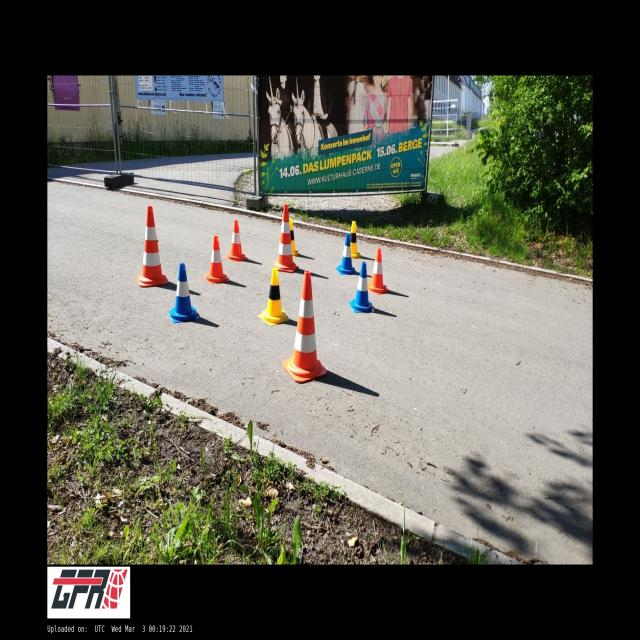blue_cone: (168, 263, 199, 324), (349, 262, 375, 313), (336, 233, 358, 275)
large_orange_cone: (282, 271, 327, 383), (136, 206, 168, 287), (274, 204, 298, 273)
orange_cone: (203, 236, 230, 284), (367, 248, 390, 295), (225, 220, 248, 263)
yellow_cone: (258, 268, 289, 326), (350, 221, 362, 259), (347, 221, 360, 256), (289, 218, 300, 257)
